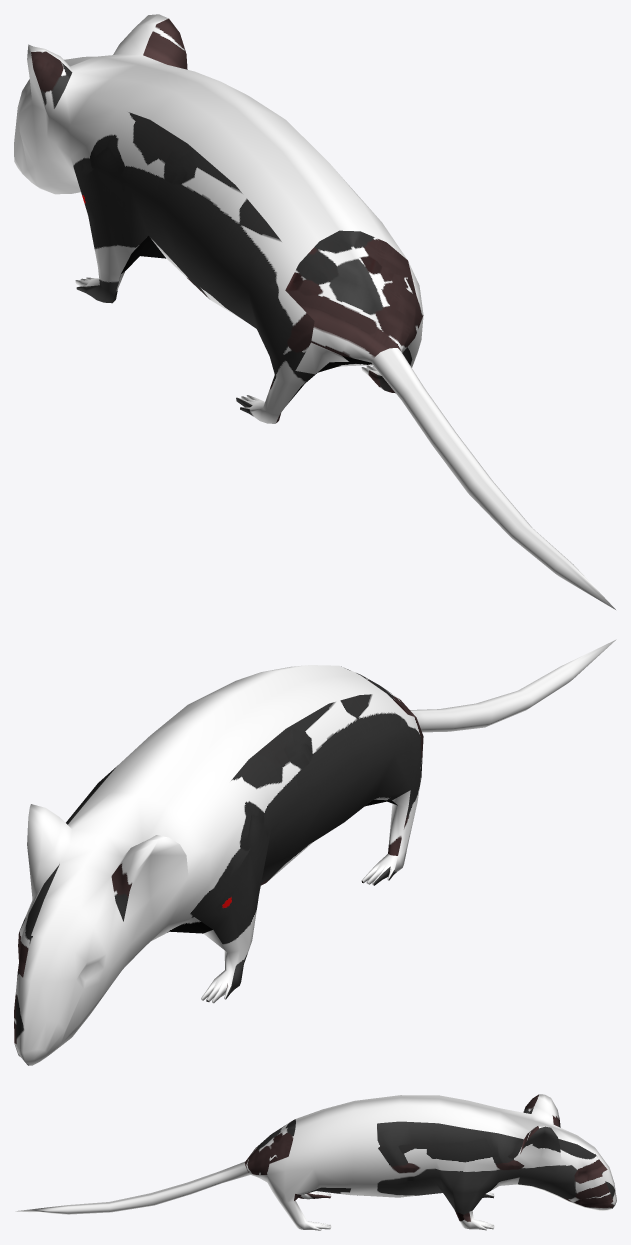
The model's file is mouse2.obj.
The picture shows the model from 3 angles, top to bottom: view 1: azimuth 30°, elevation 25°; view 2: azimuth 150°, elevation 25°; view 3: azimuth 270°, elevation 25°; orthographic projection. The views are drawn at different scales.
Parts seen in each view (by area): view 1: basemesh_body_default; view 2: basemesh_body_default; view 3: basemesh_body_default.
Boxes of the visible parts, box(x1,y1,x2,y2) form: basemesh_body_default: box(14, 14, 615, 609); basemesh_body_default: box(14, 639, 616, 1065); basemesh_body_default: box(15, 1094, 616, 1230).
Size of the model in its own units: 0.7205 by 1 by 4.72.
Materials: 1 (1 with a texture image).
